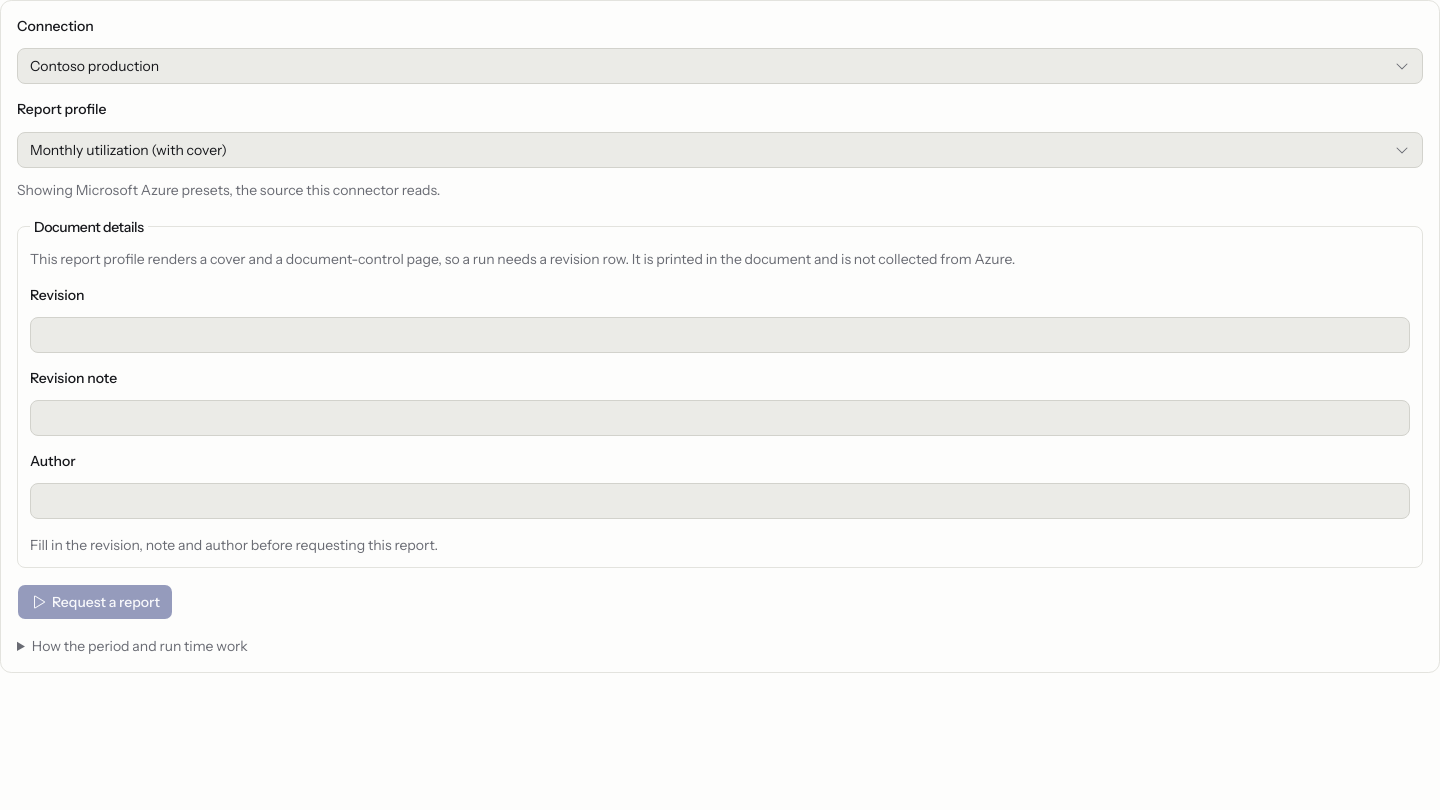
Scenario: RunForm — an incomplete v2 submission is refused here, not by the server › the submit button is disabled while any of the three is empty
Expected: the button "Request a report" is disabled, [17,584,173,620]
Type "1.0" into the field labelled "Revision" at x=720, y=335, box [30,317,1410,353]
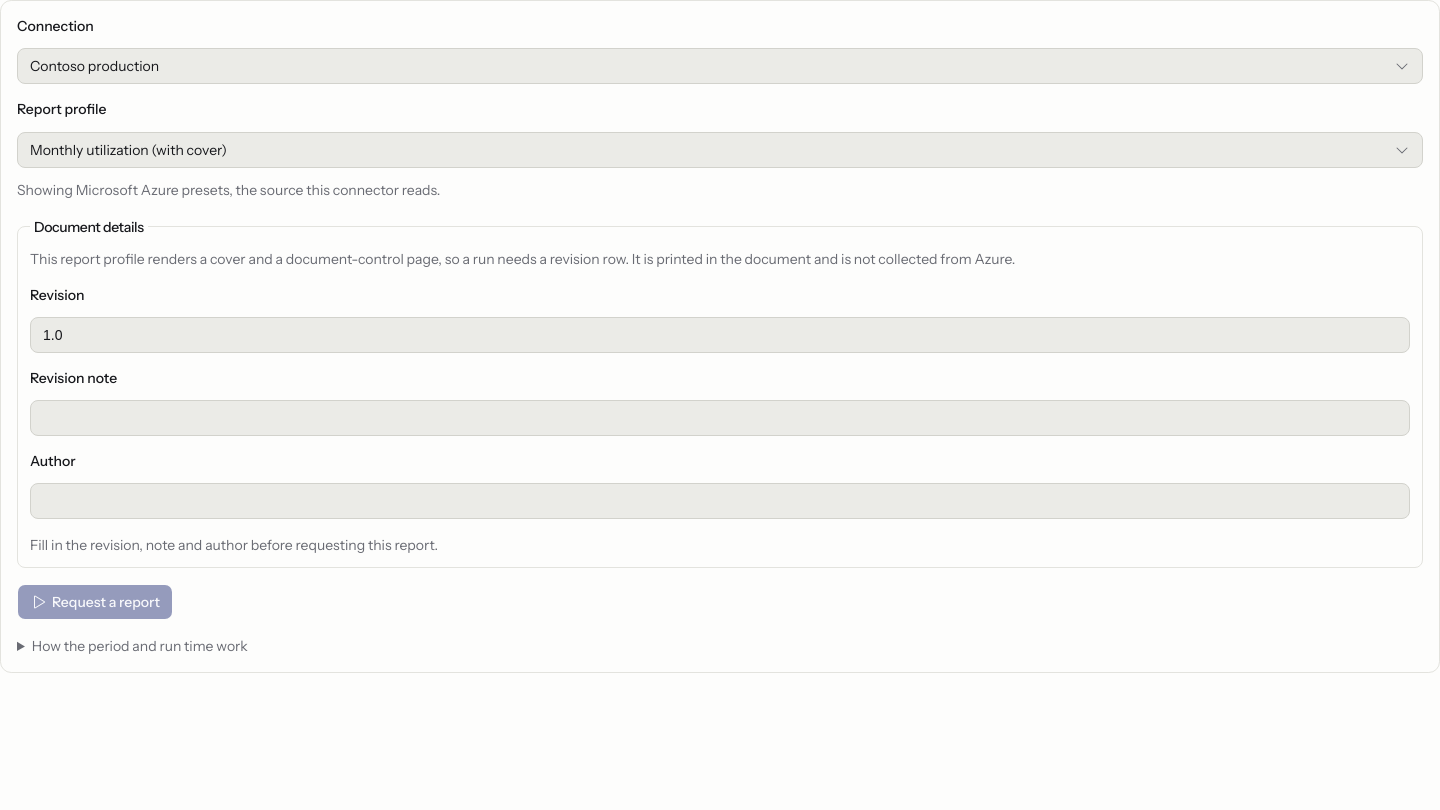
Type "First issue" into the field labelled "Revision note" at x=720, y=418, box [30,400,1410,436]
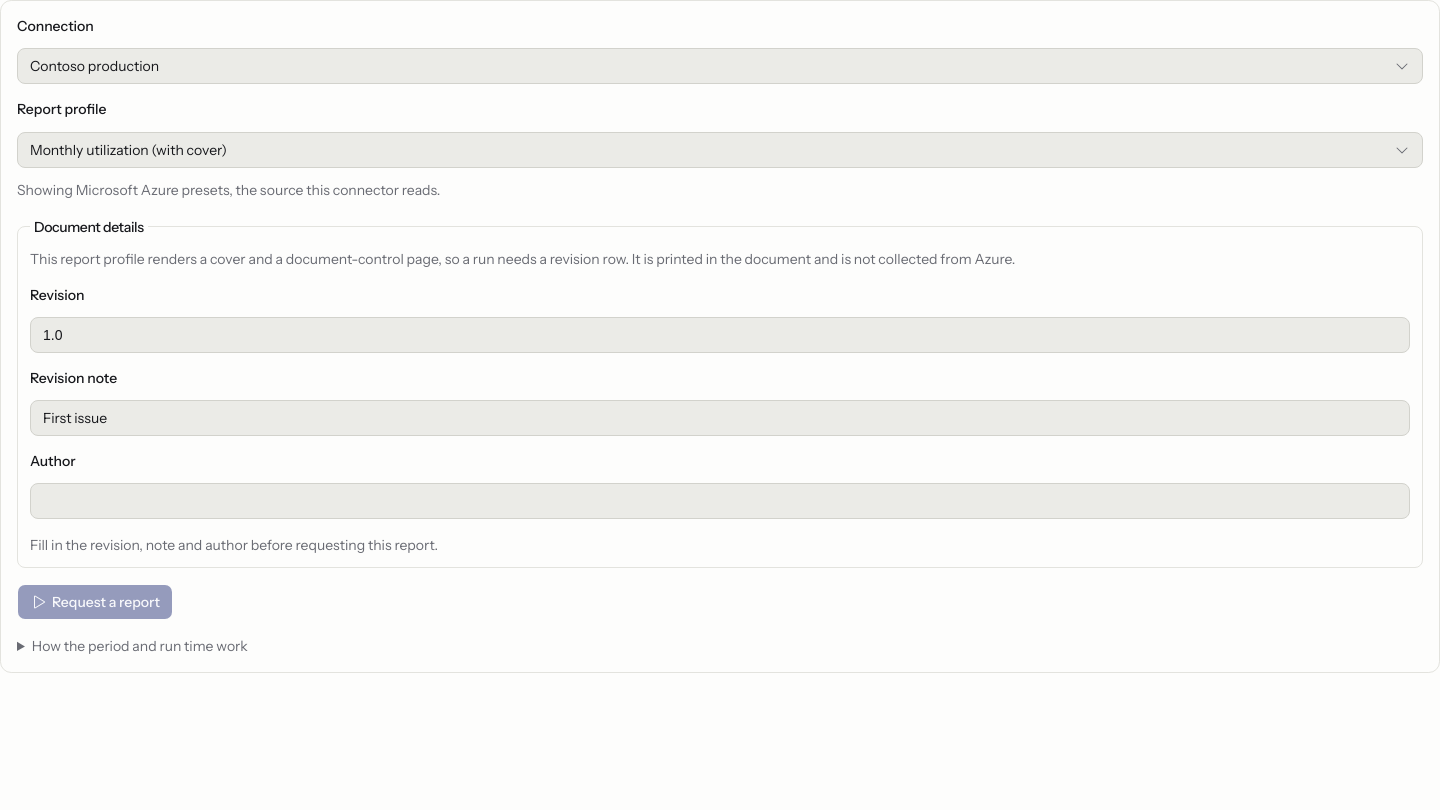
Type "A. Consultant" into the field labelled "Author" at x=720, y=501, box [30,483,1410,519]
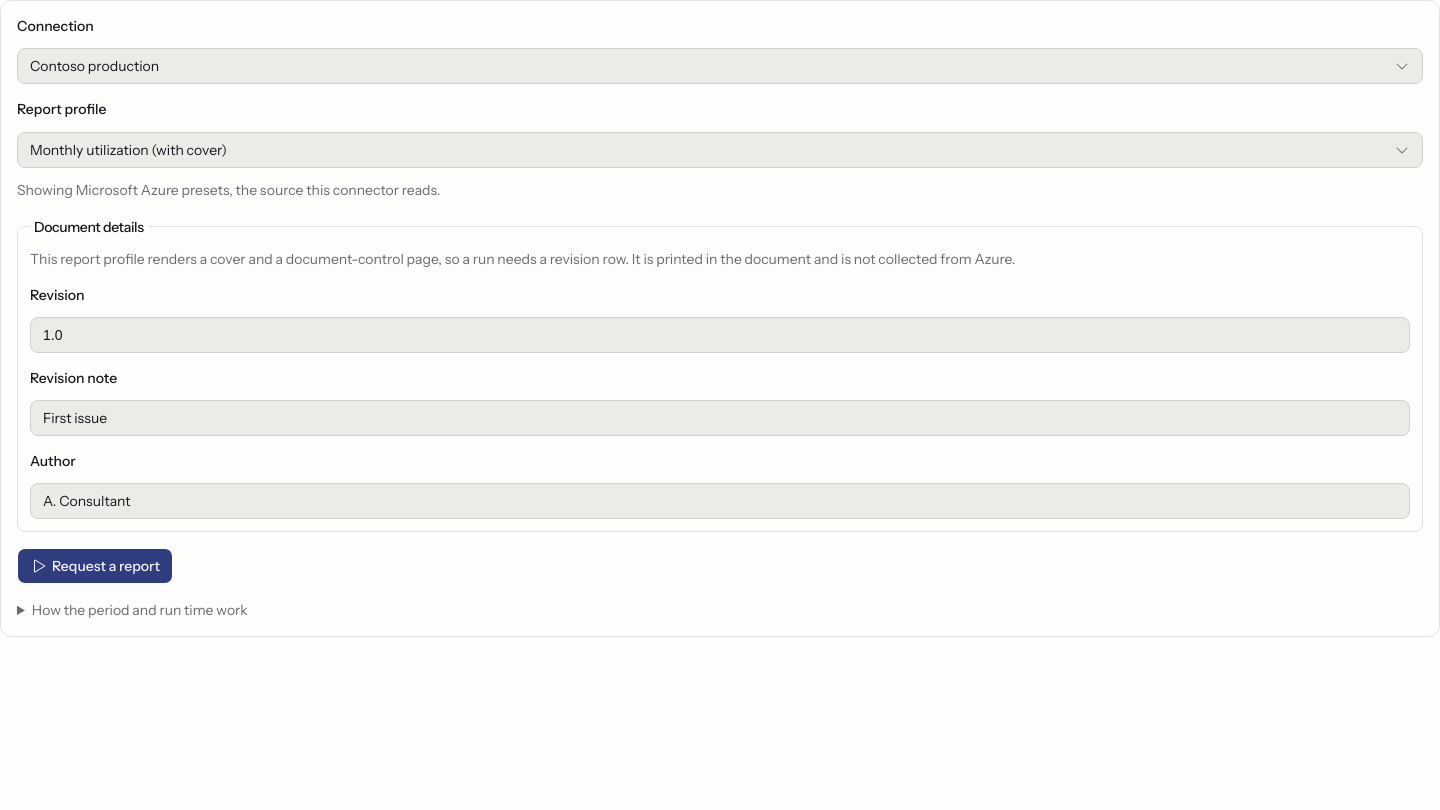
Expected: the button "Request a report" is enabled, [17,548,173,584]
